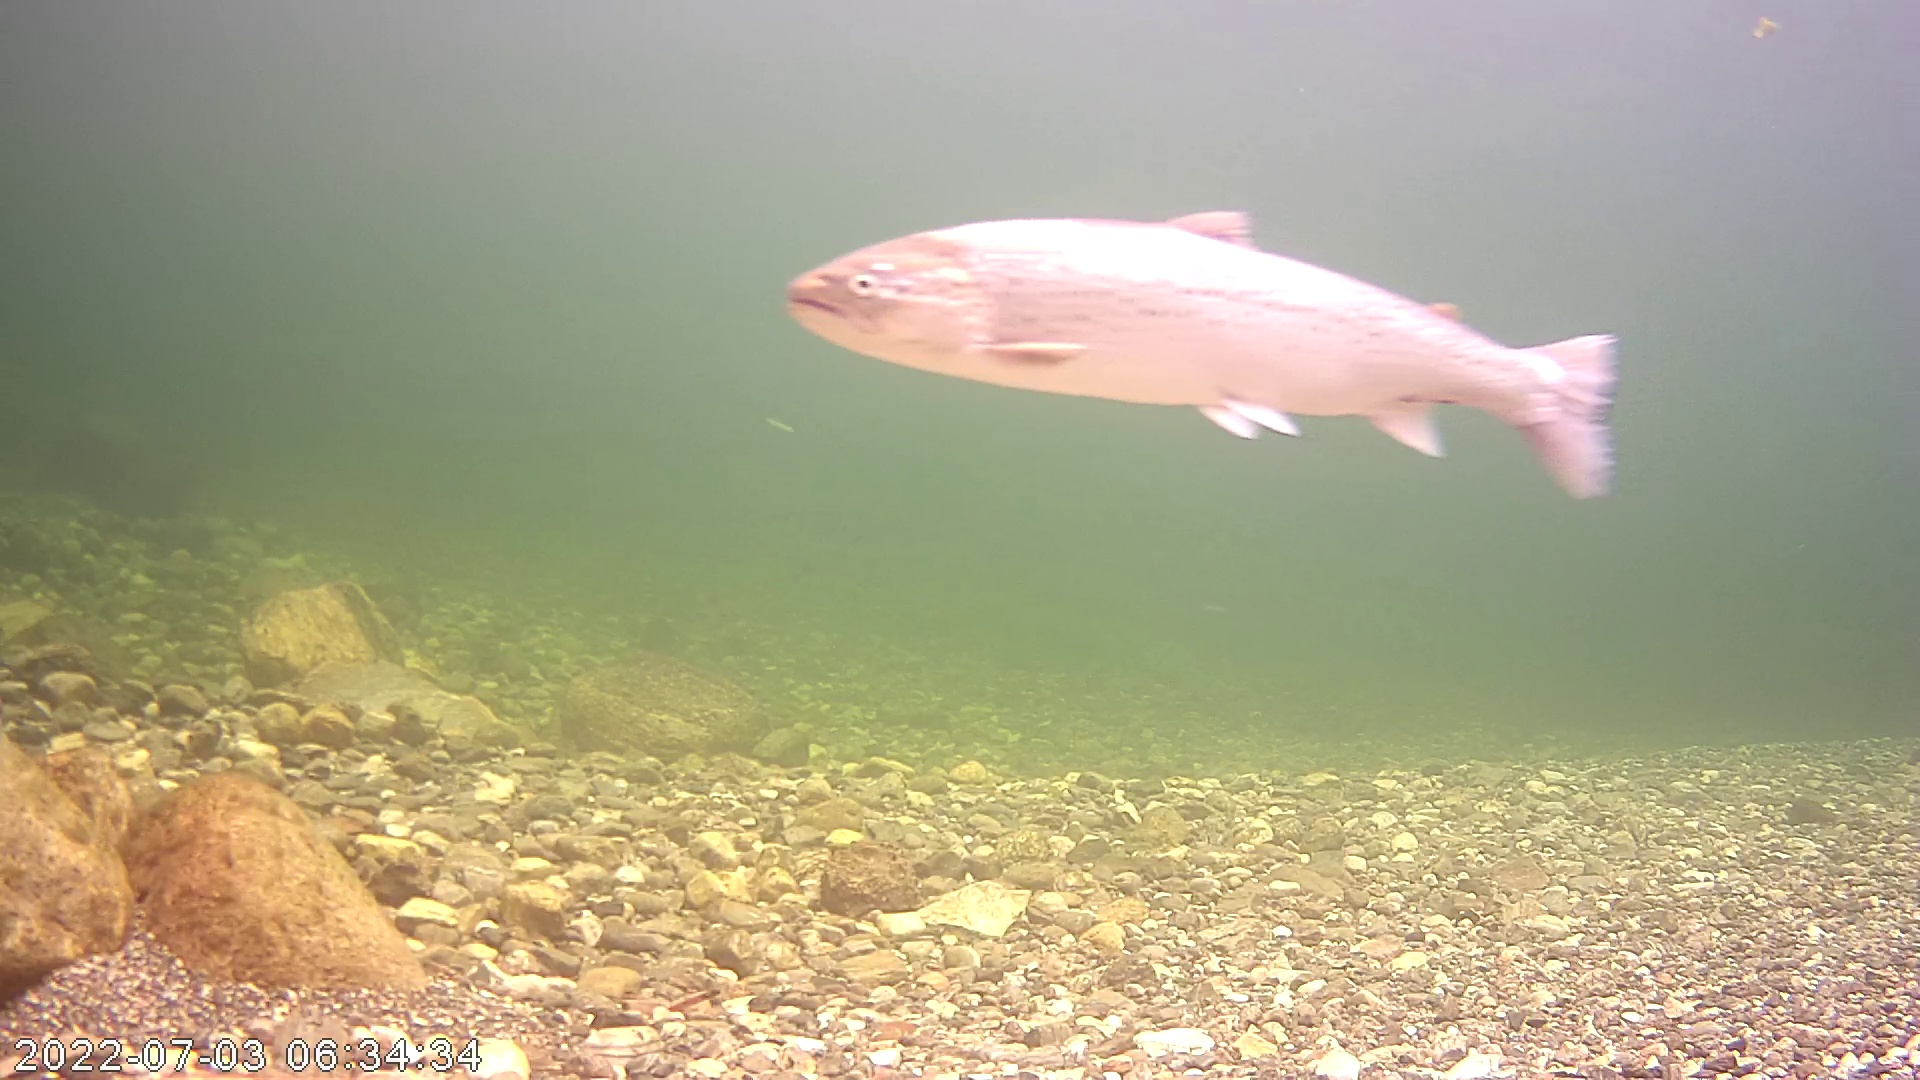salmon: (781, 203, 1626, 510)
